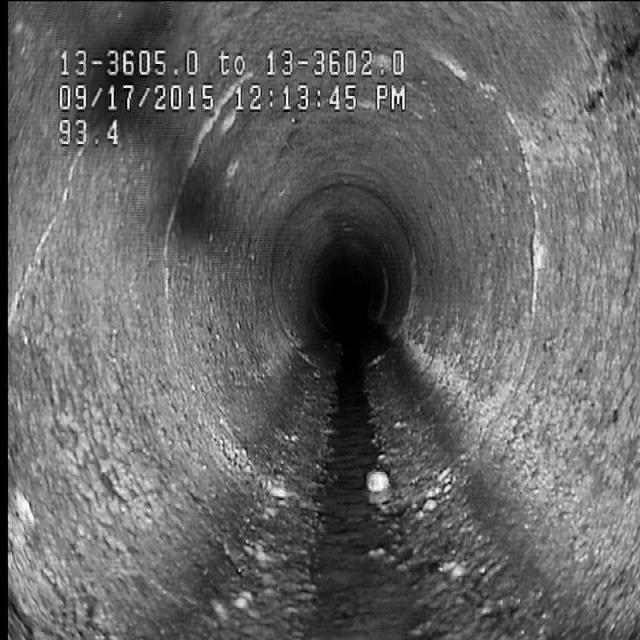Crack: (8, 59, 112, 342)
